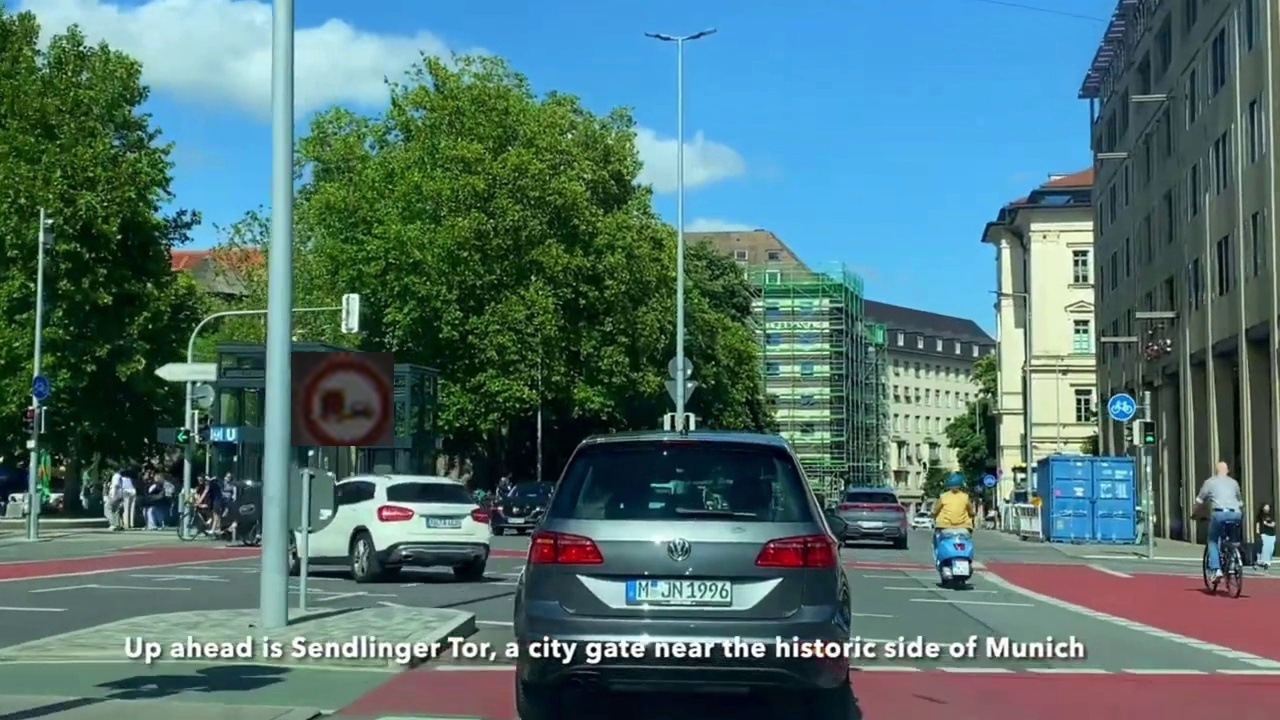No pass >3.5t: (291, 352, 394, 446)
